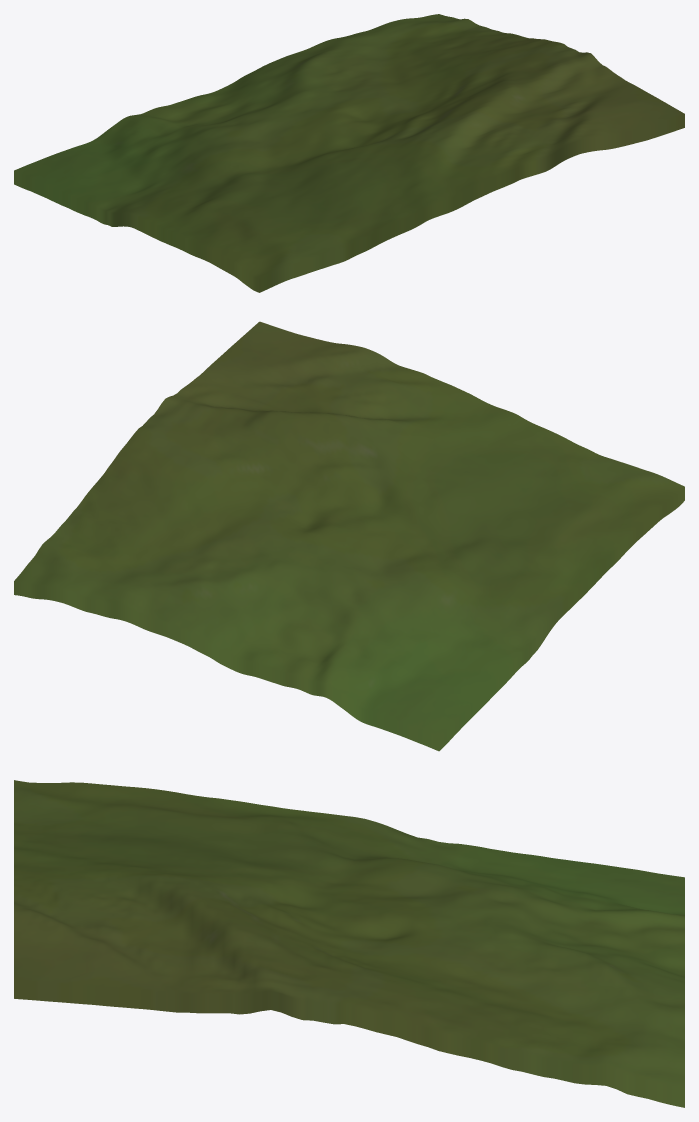
The model's file is terrain_11_-21.glb.
3 views of the same model, one above another, from view 1: azimuth 30°, elevation 25°; view 2: azimuth 150°, elevation 25°; view 3: azimuth 270°, elevation 25° (orthographic). The views are drawn at different scales.
Visible parts, largest first — view 1: terrain_11_-21; view 2: terrain_11_-21; view 3: terrain_11_-21.
Part boxes in pixels (x1=…): terrain_11_-21: x1=14, y1=14, x2=684, y2=292; terrain_11_-21: x1=14, y1=321, x2=684, y2=751; terrain_11_-21: x1=14, y1=780, x2=684, y2=1107.
Bounding box in the file's own units: 256 × 84.26 × 256.
